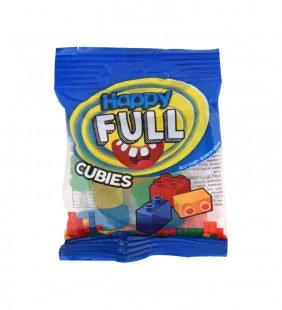HAPPY FULL: (44, 36, 237, 268)
